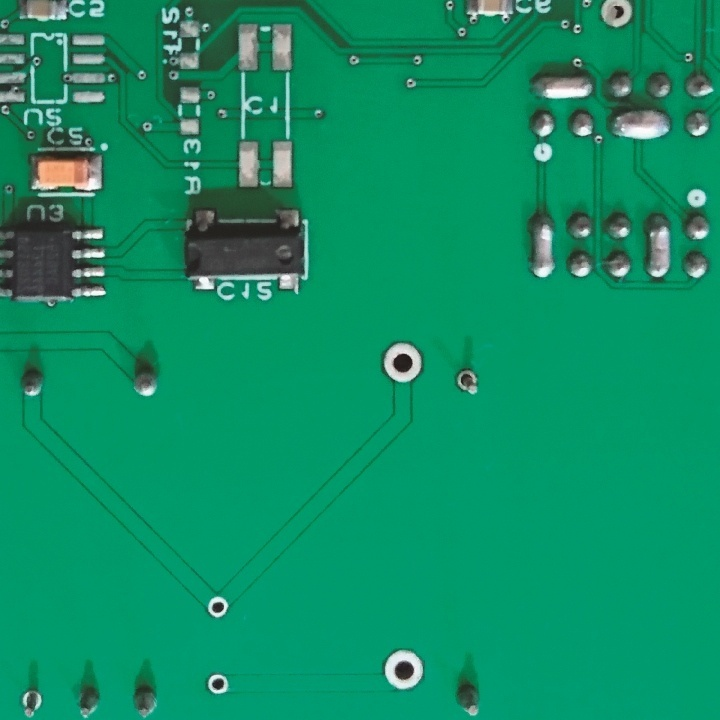F: (378, 337, 425, 385), (381, 646, 427, 695), (598, 1, 636, 36), (453, 364, 485, 401), (17, 686, 44, 719), (204, 669, 230, 698), (204, 595, 230, 618)
P: (607, 103, 676, 144), (524, 206, 559, 282), (641, 205, 673, 285), (528, 69, 597, 103)
